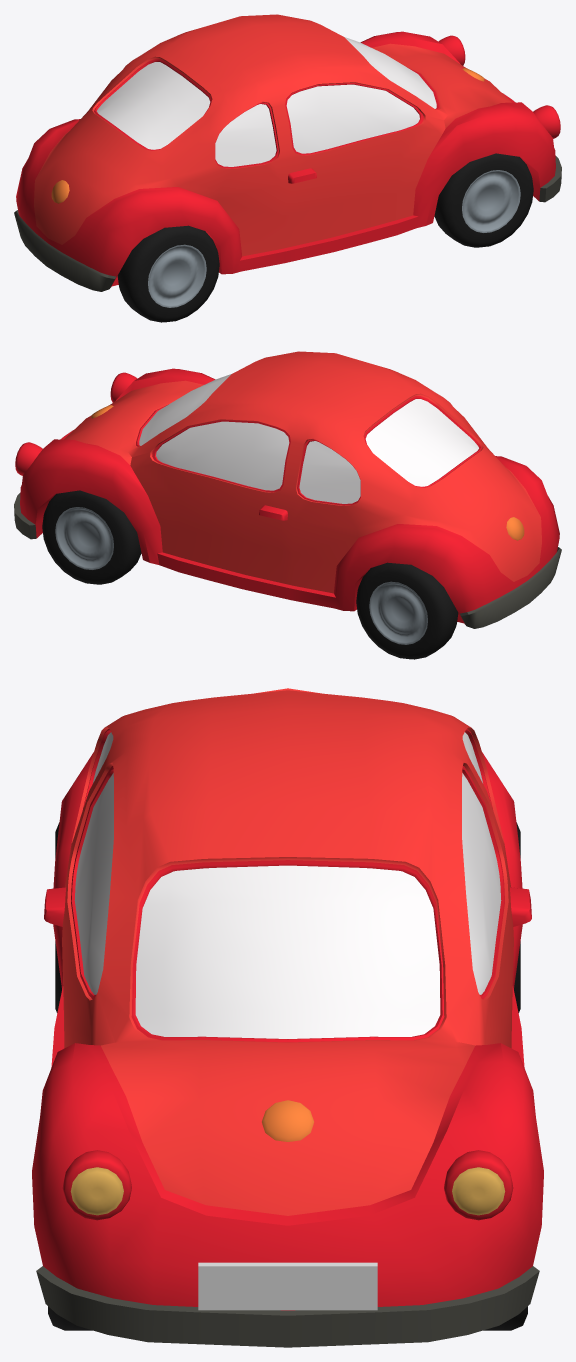
The model's file is Transport5C.fbx.
3 renders of one model, top to bottom at view 1: azimuth 30°, elevation 25°; view 2: azimuth 150°, elevation 25°; view 3: azimuth 270°, elevation 25°, orthographic. The views are drawn at different scales.
Visible parts, largest first — view 1: Transport5; view 2: Transport5; view 3: Transport5.
Part boxes in pixels (x1,y1,x2,y2): Transport5: [14, 14, 561, 322]; Transport5: [14, 351, 561, 659]; Transport5: [32, 688, 543, 1347].
Size of what is drawn, in the model's own units: 248 by 101 by 114.
